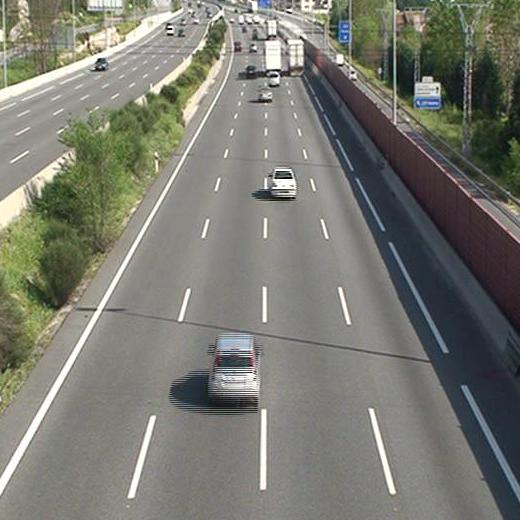car: (208, 334, 258, 396), (269, 169, 297, 197), (258, 87, 272, 101), (244, 65, 256, 78), (268, 72, 279, 86)
truck: (287, 40, 305, 76), (264, 41, 282, 70)
